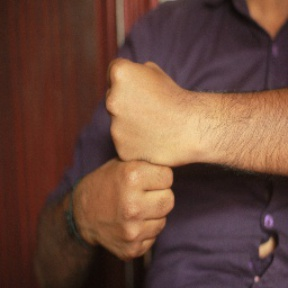G: (81, 49, 190, 262)
